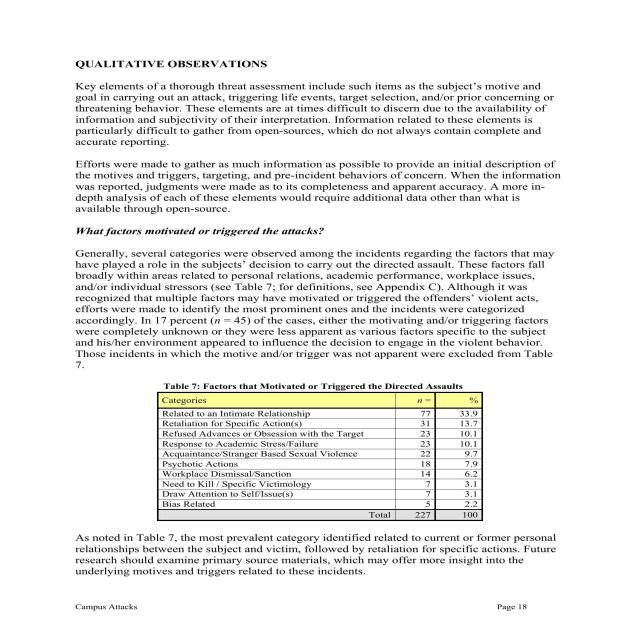table: (161, 395, 477, 518)
